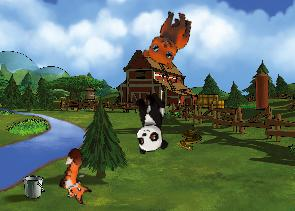bear: (140, 5, 194, 71)
fox: (53, 146, 102, 206)
panda: (131, 91, 169, 154)
